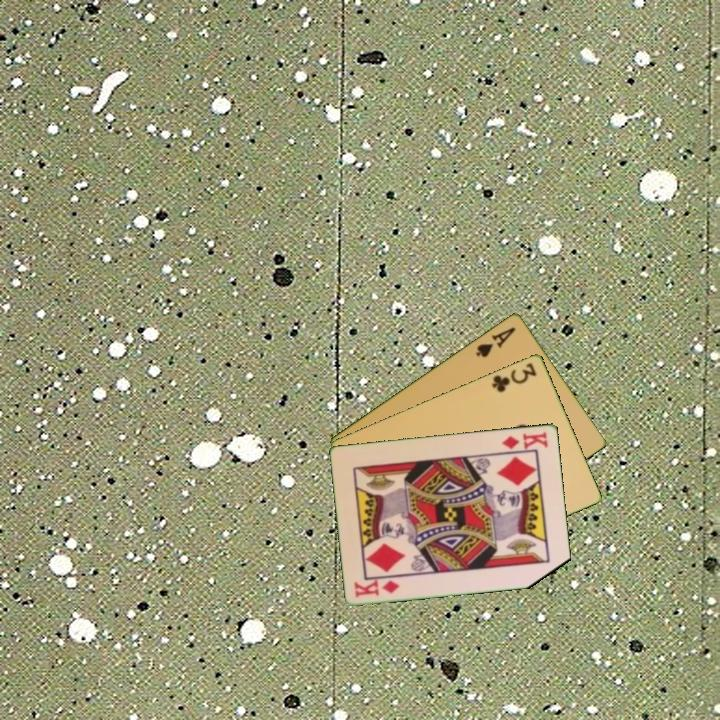3c: (488, 359, 540, 395)
As: (472, 323, 519, 360)
Kd: (499, 428, 551, 452), (351, 577, 403, 600)
